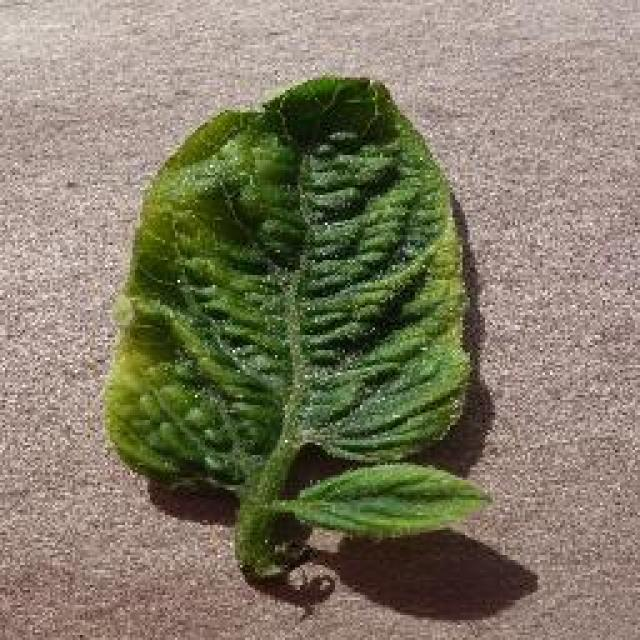Tomato yellow virus leaf: (97, 71, 475, 484), (276, 463, 502, 545)
